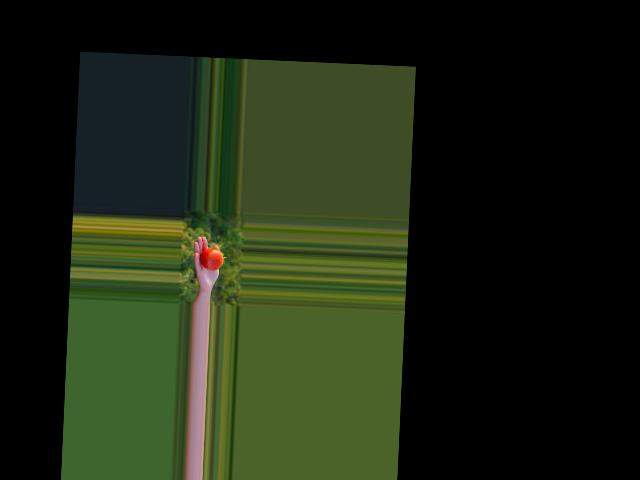tomato: (198, 248, 223, 270)
